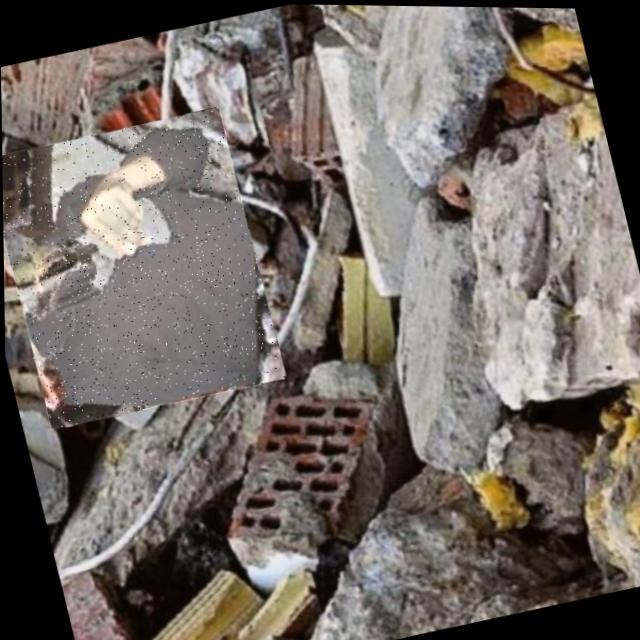Person in Rubble: (1, 102, 285, 430)
